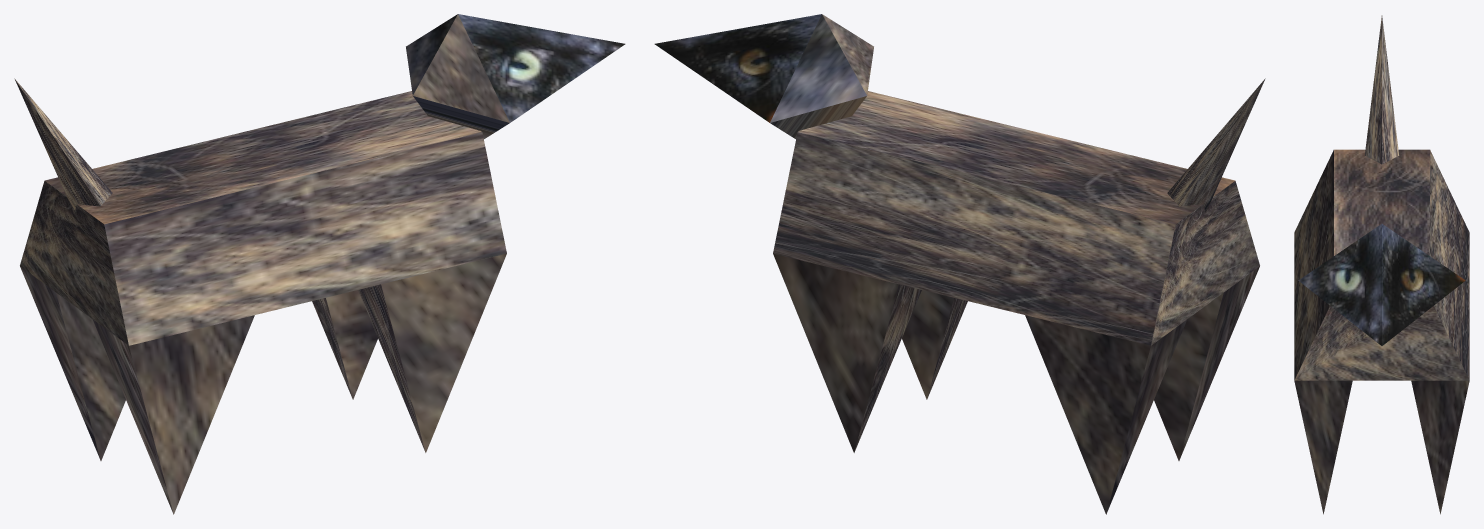
The model's file is car.glb.
The picture shows the model from 3 angles, left to right: view 1: azimuth 30°, elevation 25°; view 2: azimuth 150°, elevation 25°; view 3: azimuth 270°, elevation 25°; orthographic projection. The views are drawn at different scales.
Parts seen in each view (by area): view 1: Cube; view 2: Cube; view 3: Cube.
Part boxes in pixels (x1=…): Cube: x1=14, y1=14, x2=625, y2=514; Cube: x1=654, y1=14, x2=1265, y2=514; Cube: x1=1294, y1=15, x2=1469, y2=514.
Bounding box in the file's own units: 6.47 × 4.45 × 2.
Materials: 2 (2 with a texture image).
